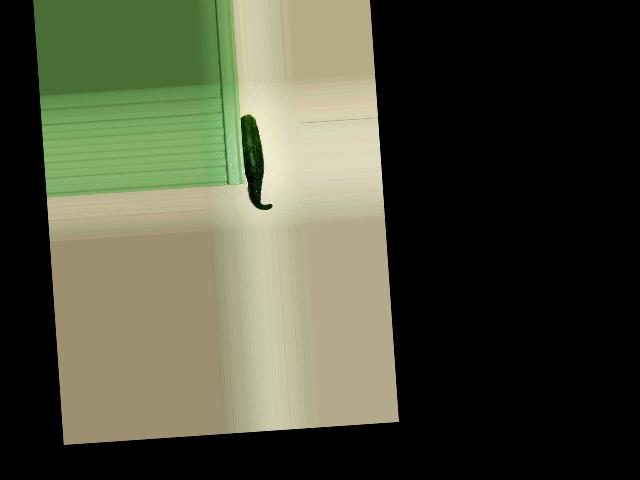cucumber: (240, 113, 272, 211)
